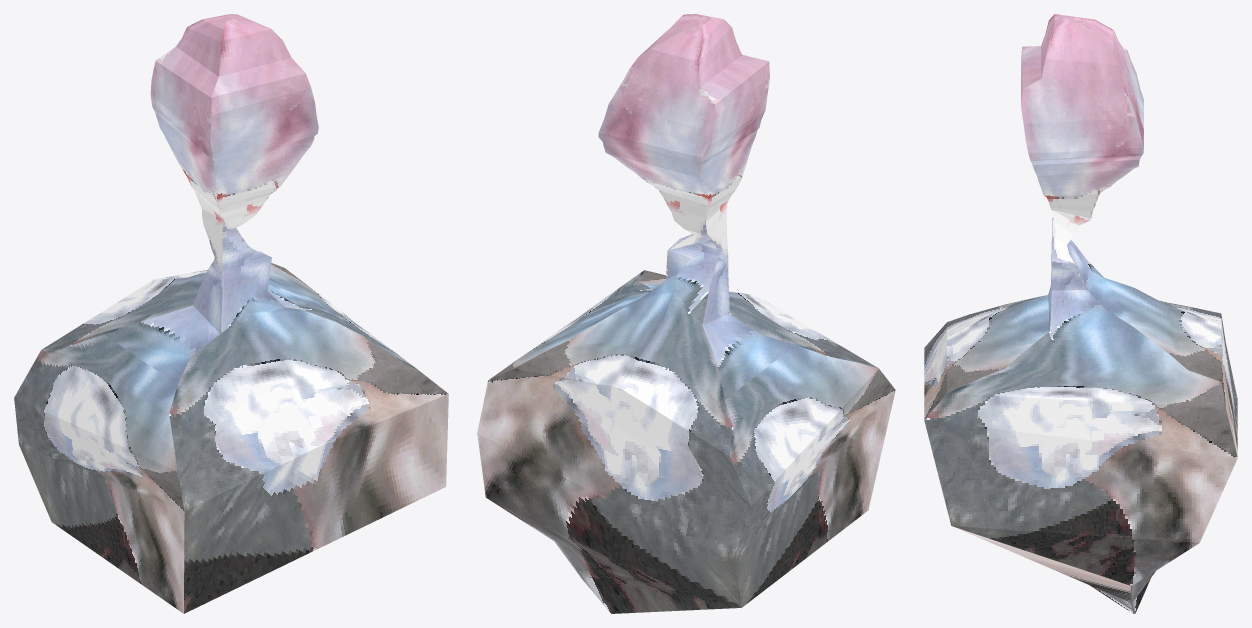
Rendered from metamorphosis_v14_t.glb.
3 renders of one model, left to right at view 1: azimuth 30°, elevation 25°; view 2: azimuth 150°, elevation 25°; view 3: azimuth 270°, elevation 25°, orthographic. The views are drawn at different scales.
Parts seen in each view (by area): view 1: Cube; view 2: Cube; view 3: Cube.
Boxes of the visible parts, x1,y1,x2,y2 form: Cube: (14,14,448,613); Cube: (477,14,895,613); Cube: (924,14,1237,613).
Bounding box in the file's own units: 1.84 × 3.68 × 1.84.
1 material, 1 textured.
